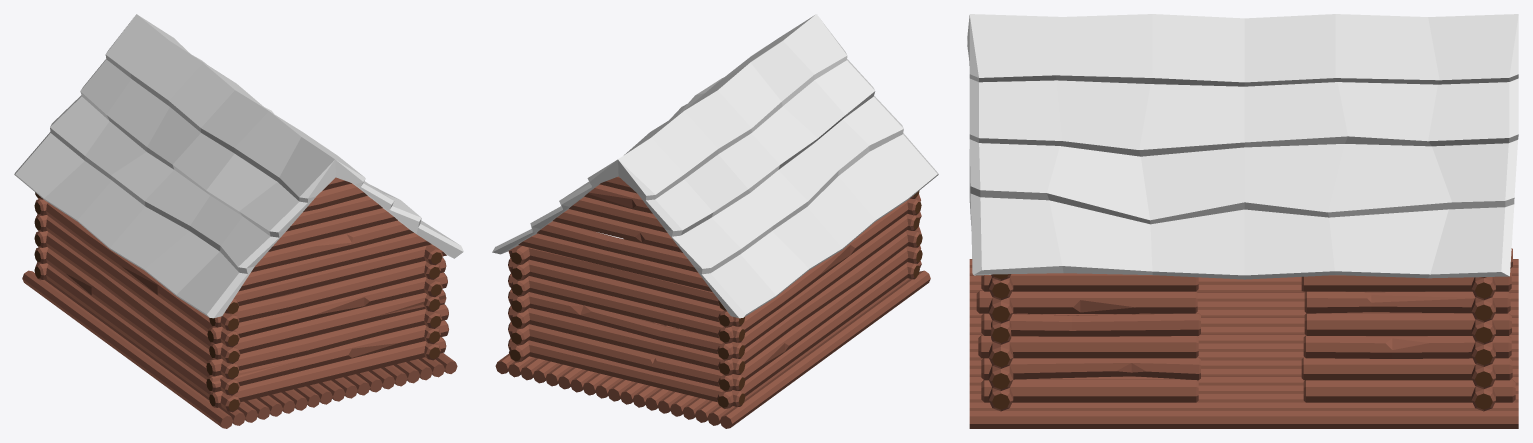
The model's file is Building_6.fbx.
The picture shows the model from 3 angles, left to right: view 1: azimuth 30°, elevation 25°; view 2: azimuth 150°, elevation 25°; view 3: azimuth 270°, elevation 25°; orthographic projection. The views are drawn at different scales.
Visible parts, largest first — view 1: Building_6; view 2: Building_6; view 3: Building_6.
Part boxes in pixels (x1,y1,x2,y2): Building_6: (14, 14, 463, 428); Building_6: (492, 14, 938, 428); Building_6: (967, 14, 1518, 428).
Bounding box in the file's own units: 5.1 × 4.63 × 6.88.
